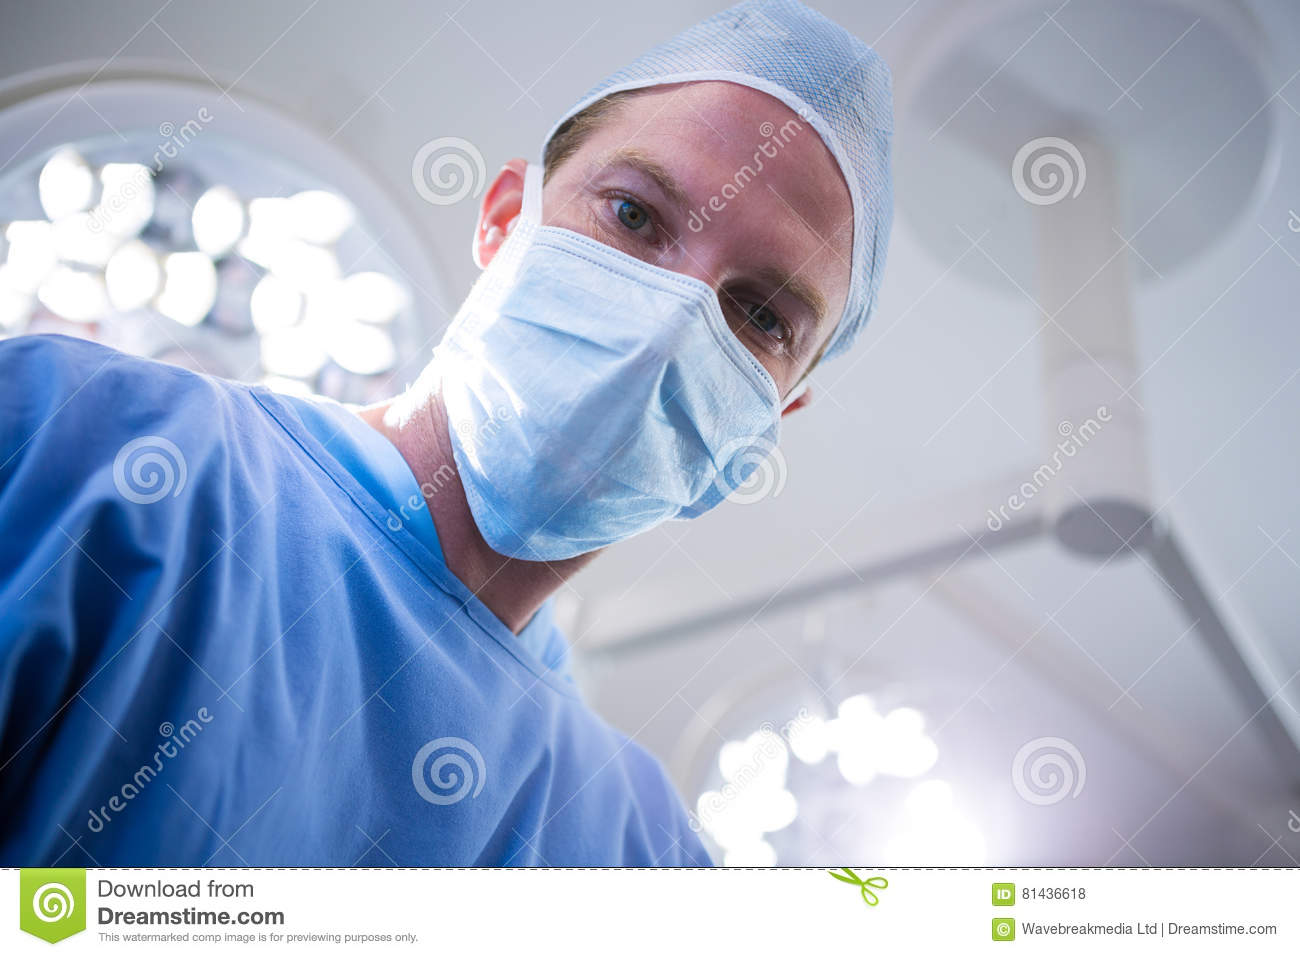mask: (467, 254, 776, 548)
